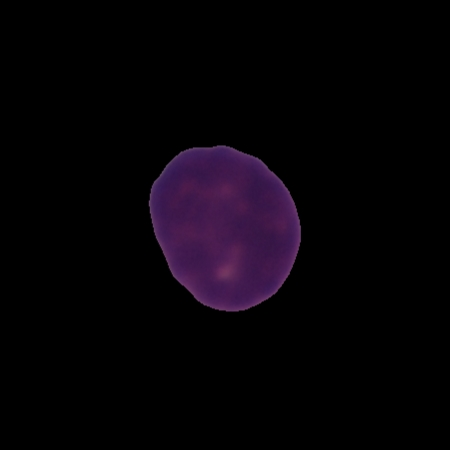HEM: (146, 141, 305, 313)
